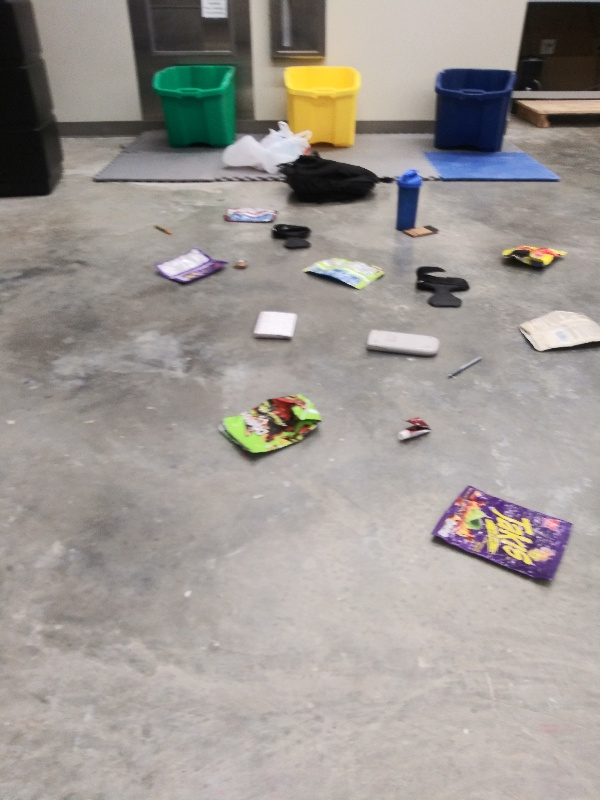bag: (429, 483, 576, 592), (216, 389, 329, 463), (514, 303, 600, 356), (296, 254, 390, 292), (149, 245, 231, 287), (492, 239, 573, 273), (218, 203, 282, 227)
